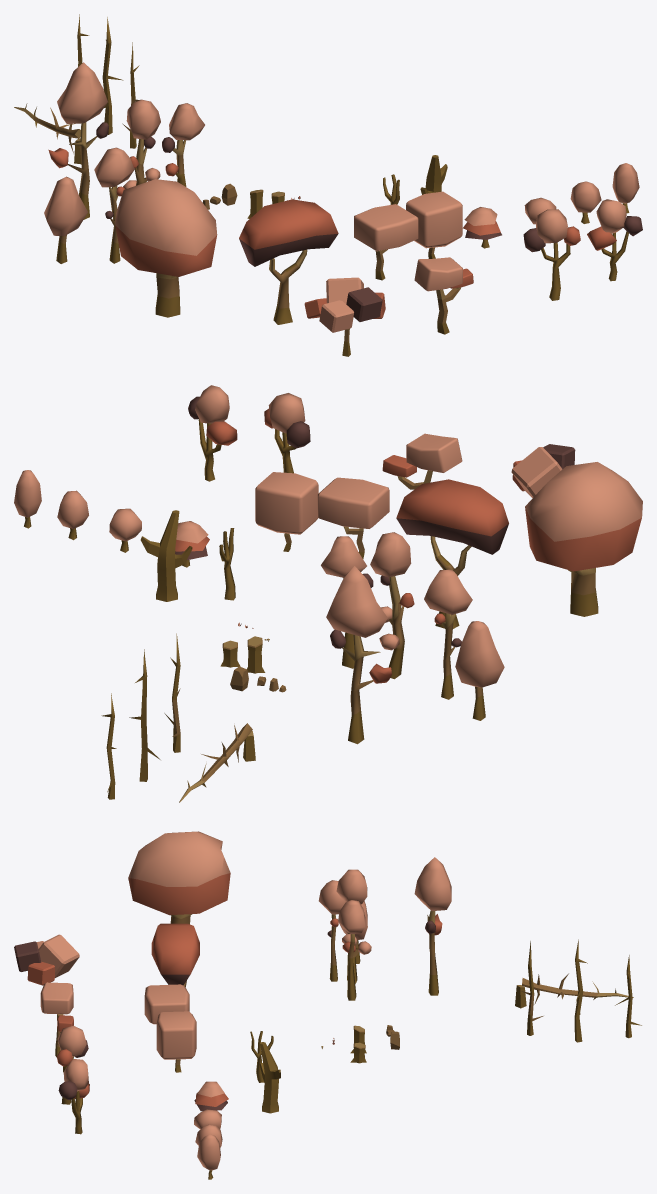
Rendered from SummerC.fbx.
The picture shows the model from 3 angles, top to bottom: view 1: azimuth 30°, elevation 25°; view 2: azimuth 150°, elevation 25°; view 3: azimuth 270°, elevation 25°; orthographic projection. The views are drawn at different scales.
Parts seen in each view (by area): view 1: tree_gen22, tree_gen21, tree_gen23, tree53, tree52, tree51, tree_gen20, tree55, tree54, tree_Maple5, Tree5, tree_gen19 (+7 smaller); view 2: tree_gen22, tree_gen21, tree_gen23, tree51, tree52, Tree5, tree_Maple5, tree55, tree_gen19, tree54, tree_gen20, tree53 (+10 smaller); view 3: tree_gen22, tree_gen21, tree_gen23, tree53, tree51, tree52, tree55, tree54, tree_gen18, Tree5, tree_dead_006, tree_gen19 (+5 smaller).
Part boxes in pixels (x1,y1,x2,y2): tree_gen22: (115,179,217,317); tree_gen21: (239,199,338,324); tree_gen23: (48,62,108,219); tree53: (304,277,385,356); tree52: (354,204,418,280); tree51: (406,191,462,258); tree_gen20: (523,209,580,300); tree55: (414,257,473,334); tree54: (587,199,642,281); tree_Maple5: (44,176,87,263); Tree5: (123,99,160,189); tree_gen19: (94,147,134,263); tree_gen22: (525,462,642,616); tree_gen21: (396,479,508,628); tree_gen23: (326,566,391,744); tree51: (255,472,318,551); tree52: (317,477,389,558); Tree5: (370,532,414,679); tree_Maple5: (455,621,504,720); tree55: (382,433,462,489); tree_gen19: (424,569,472,699); tree54: (188,385,237,481); tree_gen20: (264,393,310,473); tree53: (511,444,575,497); tree_gen22: (128,831,230,924); tree_gen21: (151,923,199,987); tree_gen23: (414,857,451,995); tree53: (14,934,79,985); tree51: (156,1011,196,1072); tree52: (144,984,189,1024); tree55: (40,982,73,1057); tree54: (58,1059,89,1134); tree_gen18: (338,900,365,1000); Tree5: (336,869,371,983); tree_dead_006: (259,1042,280,1113); tree_gen19: (318,880,345,981).
Bounding box in the file's own units: 25.22 × 7.74 × 29.17.
